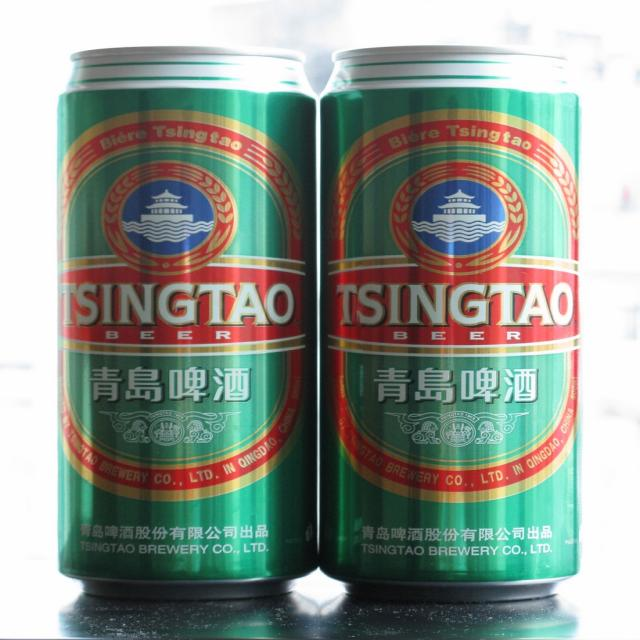tsingtao: (320, 109, 581, 505), (58, 111, 308, 502)
